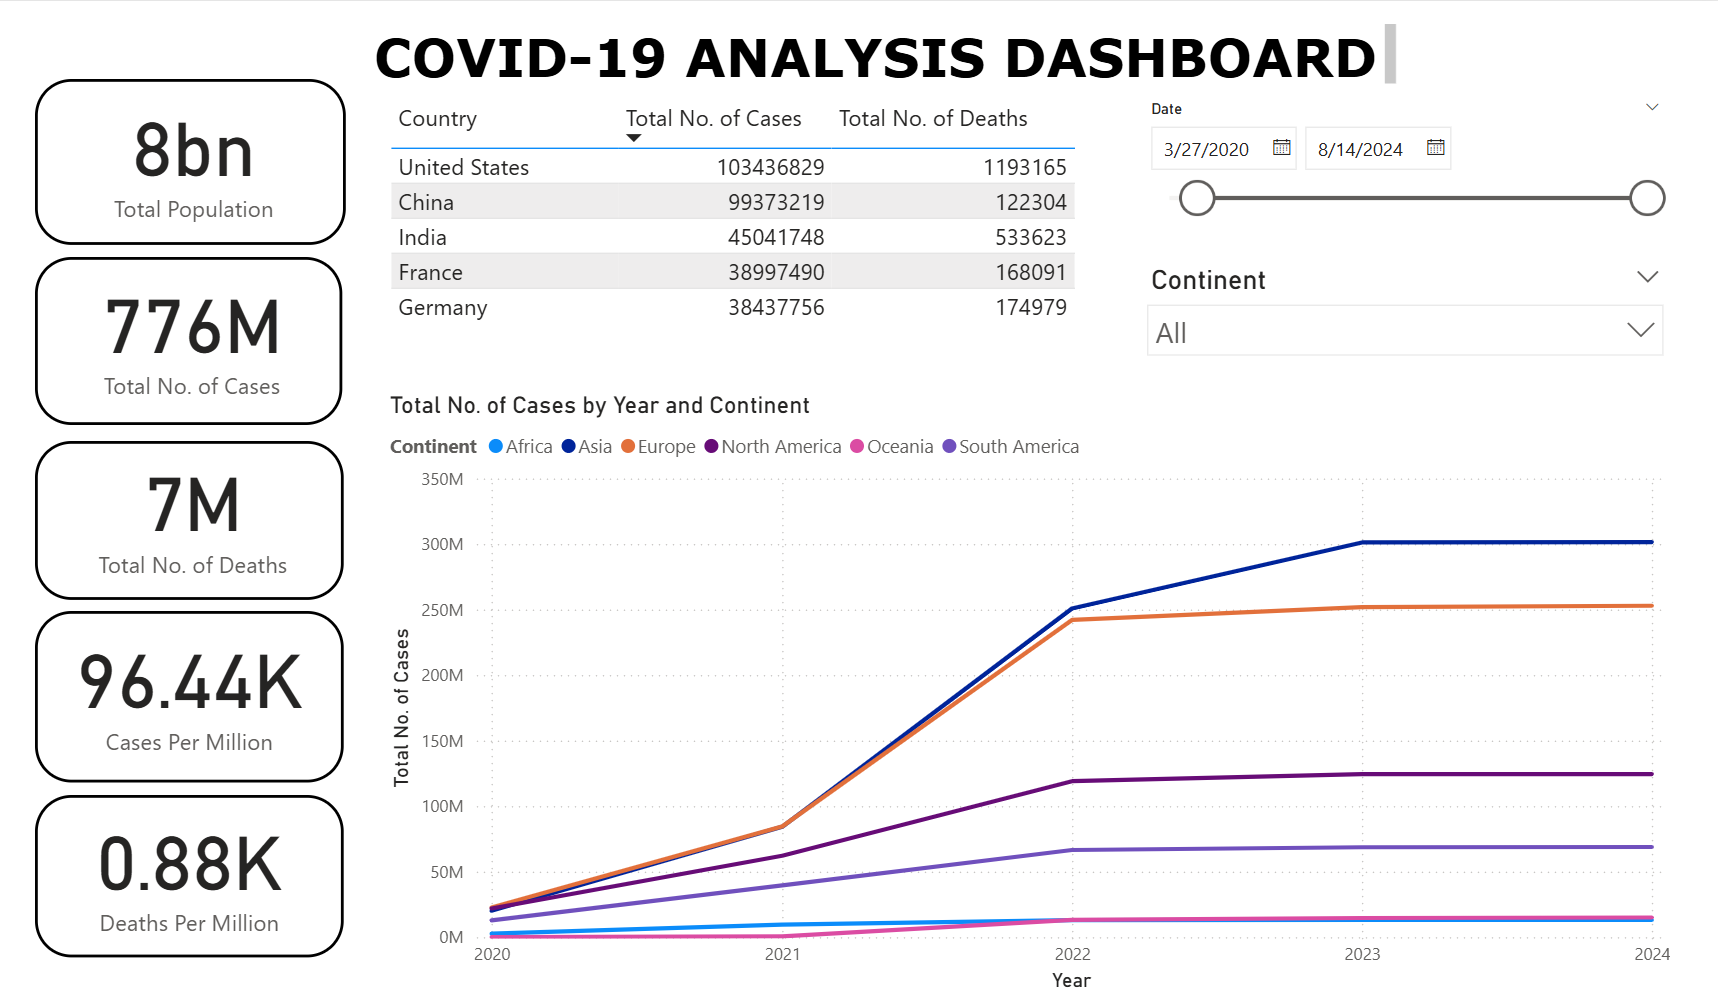

What the dashboard file says about the page in this screenshot:
{"tool":"powerbi","page":{"name":"Page 1","canvas":[1280,720],"ordinal":0},"visuals":[{"type":"textbox","box":[306,12,740,54],"z":0},{"type":"lineChart","fields":{"Category":["owid-covid-data.date.Variation.Date Hierarchy.Year","owid-covid-data.date.Variation.Date Hierarchy.Quarter","owid-covid-data.date.Variation.Date Hierarchy.Month","owid-covid-data.date.Variation.Date Hierarchy.Day"],"Series":["owid-covid-data.continent"],"Y":["owid-covid-data.Total No. of Cases"]},"box":[317.5,277.9,924.3,433.5],"z":1000},{"type":"card","fields":{"Values":["owid-covid-data.Total No. of Deaths"]},"box":[68.8,313.6,220.6,113.5],"z":2000},{"type":"slicer","fields":{"Values":["owid-covid-data.Continent"]},"box":[852.9,182.3,388.8,82.9],"z":3000},{"type":"slicer","fields":{"Values":["owid-covid-data.Date"]},"box":[853.3,65,388.3,100],"z":4000},{"type":"card","fields":{"Values":["owid-covid-data.Total No. of Cases"]},"box":[68.8,182.3,219.3,119.8],"z":5000},{"type":"card","fields":{"Values":["owid-covid-data.Total Population"]},"box":[68.8,56.1,221.8,118.6],"z":6000},{"type":"tableEx","fields":{"Values":["owid-covid-data.Country","owid-covid-data.Total No. of Cases","owid-covid-data.Total No. of Deaths"]},"box":[317.5,65,510,200.2],"z":7000},{"type":"actionButton","box":[0,0,100,40],"z":8000},{"type":"card","fields":{"Values":["owid-covid-data.Deaths Per Million"]},"box":[68.8,567.3,220.6,116],"z":9000},{"type":"card","fields":{"Values":["owid-covid-data.Cases Per Million"]},"box":[68.8,436,220.6,122.4],"z":10000}]}

Visuals, with their boxes on the page's 1280x720 design canvas (x1, y1, x2, y2). These are canvas units, not pixel positions in the 1718x1003 screenshot, which may show the page scaled, cropped or inside an application window:
textbox: 306:12:1046:66
lineChart - owid-covid-data.date.Variation.Date Hierarchy.Year x owid-covid-data.date.Variation.Date Hierarchy.Quarter: 318:278:1242:711
card - owid-covid-data.Total No. of Deaths: 69:314:289:427
slicer - owid-covid-data.Continent: 853:182:1242:265
slicer - owid-covid-data.Date: 853:65:1242:165
card - owid-covid-data.Total No. of Cases: 69:182:288:302
card - owid-covid-data.Total Population: 69:56:291:175
tableEx - owid-covid-data.Country x owid-covid-data.Total No. of Cases: 318:65:828:265
actionButton: 0:0:100:40
card - owid-covid-data.Deaths Per Million: 69:567:289:683
card - owid-covid-data.Cases Per Million: 69:436:289:558
